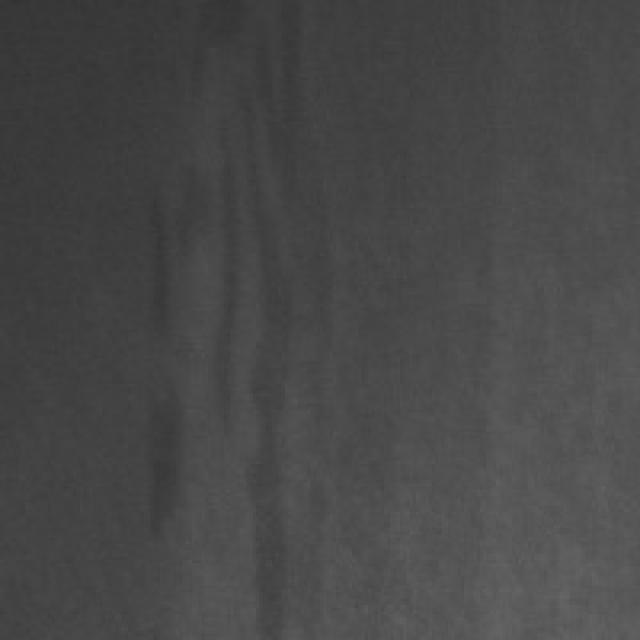inclusion: (211, 0, 310, 630), (131, 163, 202, 541)
